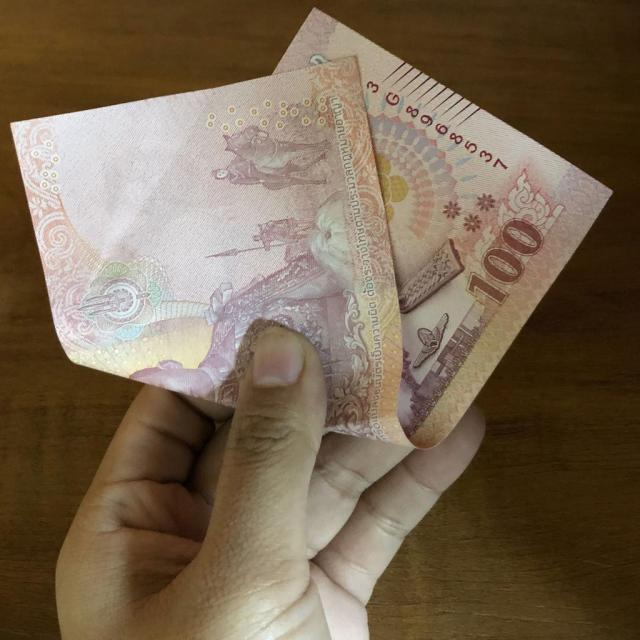THAI100: (11, 10, 613, 451)
